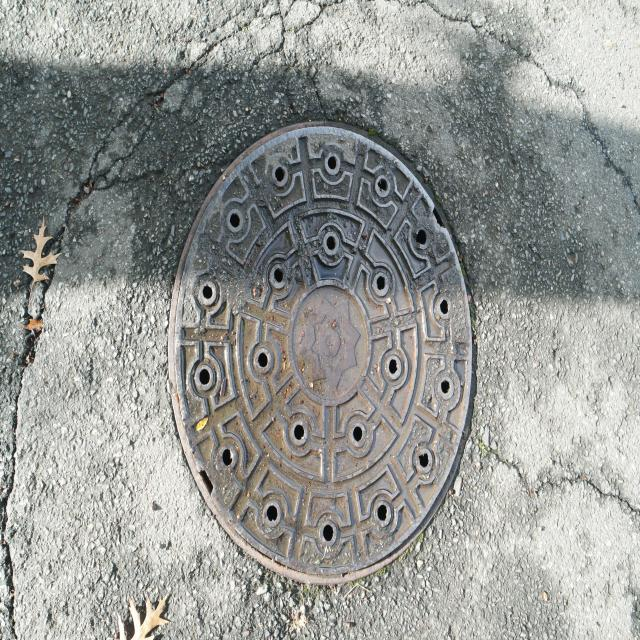manhole: (165, 123, 478, 589)
